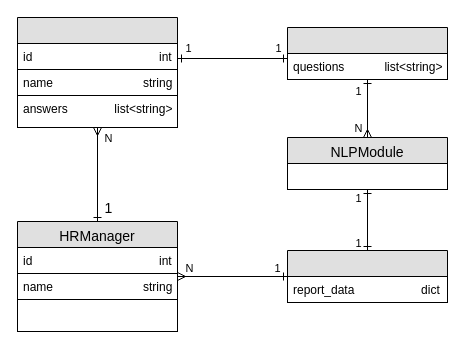
Image size: 465x352. Some labels were removed from this diagram. The shapes that lost their labels are listed below. From the top down, each one's box as (x1, y1, x2, y2) in pixels, then its label:
(16, 16, 178, 128): Candidate
(286, 26, 448, 80): ChatBot
(286, 162, 448, 190): language_model object
(286, 250, 448, 302): ReportSystem
(16, 298, 178, 332): report string
